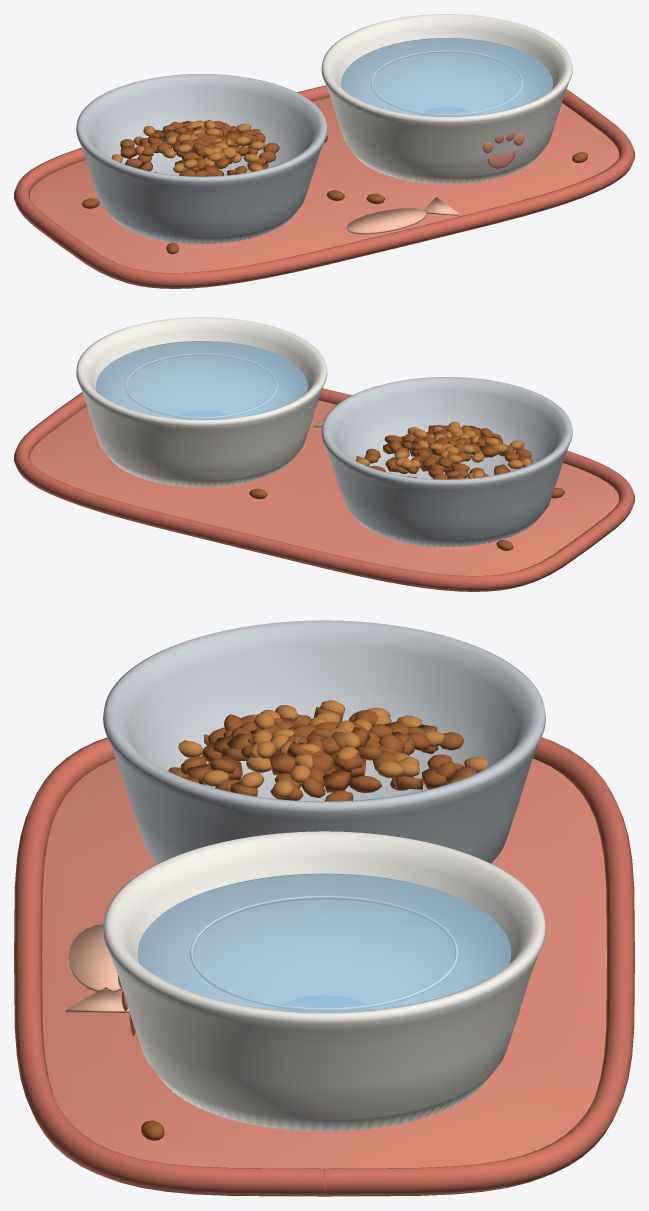
The model's file is catstuff-catbowls.glb.
3 views of the same model, one above another, from view 1: azimuth 30°, elevation 25°; view 2: azimuth 150°, elevation 25°; view 3: azimuth 270°, elevation 25° (orthographic). The views are drawn at different scales.
Visible parts, largest first — view 1: CatBowls__Bowl2, CatBowls__Bowl1, CatBowls__Mat, CatBowls__MatRim, CatBowls__Water, CatBowls__Kibble, CatBowls__Kibble2, CatBowls__MatFish, CatBowls__WaterGlint, CatBowls__SpilledKibble, CatBowls__BowlPaw; view 2: CatBowls__Bowl2, CatBowls__Mat, CatBowls__Bowl1, CatBowls__MatRim, CatBowls__Water, CatBowls__Kibble, CatBowls__Kibble2, CatBowls__WaterGlint, CatBowls__SpilledKibble; view 3: CatBowls__Bowl2, CatBowls__Mat, CatBowls__Bowl1, CatBowls__Water, CatBowls__MatRim, CatBowls__Kibble, CatBowls__Kibble2, CatBowls__MatFish, CatBowls__WaterGlint.
Part boxes in pixels (box(x1,y1,x2,y2)): CatBowls__Bowl2: box(321, 14, 572, 184); CatBowls__Bowl1: box(76, 74, 327, 244); CatBowls__Mat: box(30, 97, 618, 288); CatBowls__MatRim: box(14, 85, 634, 287); CatBowls__Water: box(341, 38, 552, 116); CatBowls__Kibble: box(120, 119, 279, 176); CatBowls__Kibble2: box(111, 120, 264, 173); CatBowls__MatFish: box(346, 197, 459, 234); CatBowls__WaterGlint: box(371, 50, 522, 115); CatBowls__SpilledKibble: box(81, 135, 587, 254); CatBowls__BowlPaw: box(483, 132, 524, 168); CatBowls__Bowl2: box(76, 317, 327, 487); CatBowls__Mat: box(30, 400, 618, 591); CatBowls__Bowl1: box(321, 377, 572, 547); CatBowls__MatRim: box(14, 388, 634, 590); CatBowls__Water: box(96, 341, 307, 419); CatBowls__Kibble: box(356, 425, 532, 479); CatBowls__Kibble2: box(355, 421, 532, 478); CatBowls__WaterGlint: box(126, 353, 277, 418); CatBowls__SpilledKibble: box(249, 487, 564, 550); CatBowls__Bowl2: box(103, 831, 545, 1131); CatBowls__Mat: box(42, 758, 606, 1196); CatBowls__Bowl1: box(103, 620, 545, 863); CatBowls__Water: box(137, 873, 511, 1012); CatBowls__MatRim: box(14, 737, 634, 1194); CatBowls__Kibble: box(168, 707, 479, 801); CatBowls__Kibble2: box(178, 700, 487, 798); CatBowls__MatFish: box(65, 924, 129, 1012); CatBowls__WaterGlint: box(190, 895, 458, 1010).
Bounding box in the file's own units: 69.8 × 11.03 × 39.8.
